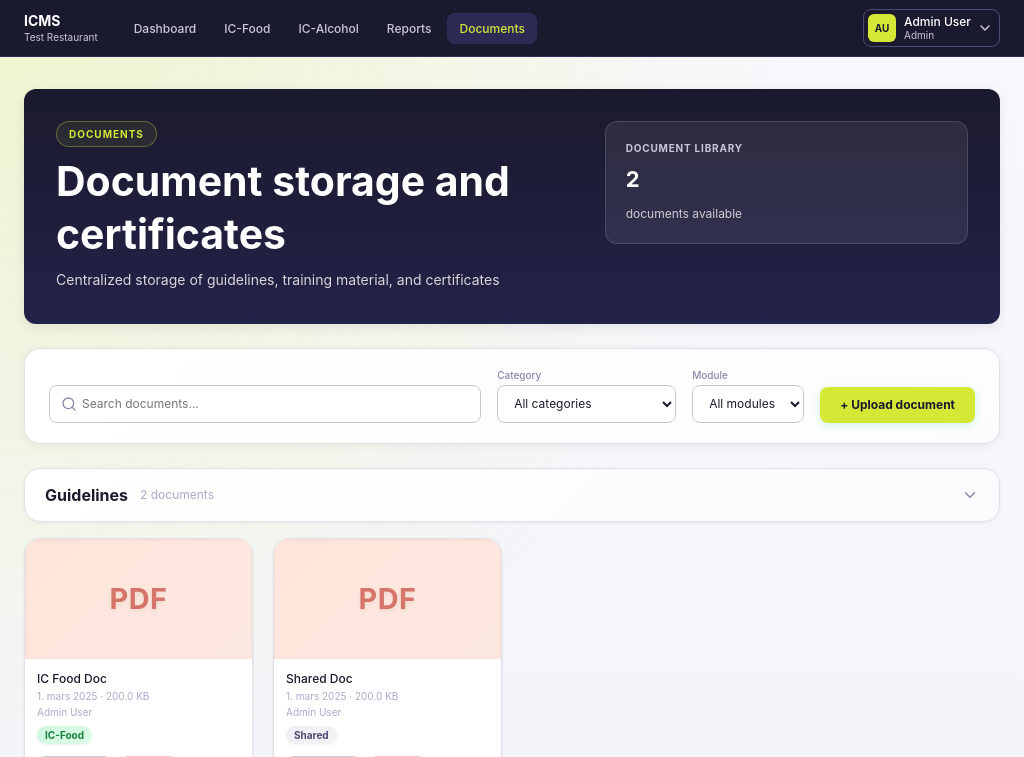
Test: Documents Page › as admin › filters documents by module dropdown
Select "IC-Food" in the dropdown with id "filter-module" at [748, 404], box 692,385 -> 804,423
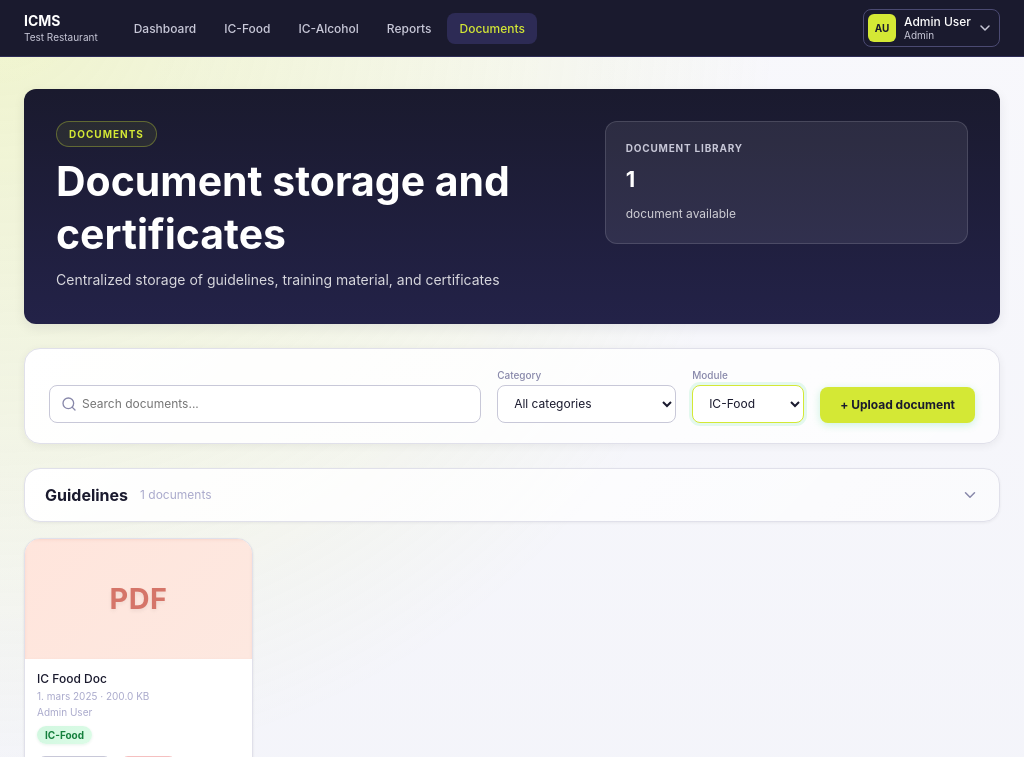
Expected: the text "IC Food Doc" is shown, 37,671 -> 107,686
Now the text "Shared Doc" is gone
